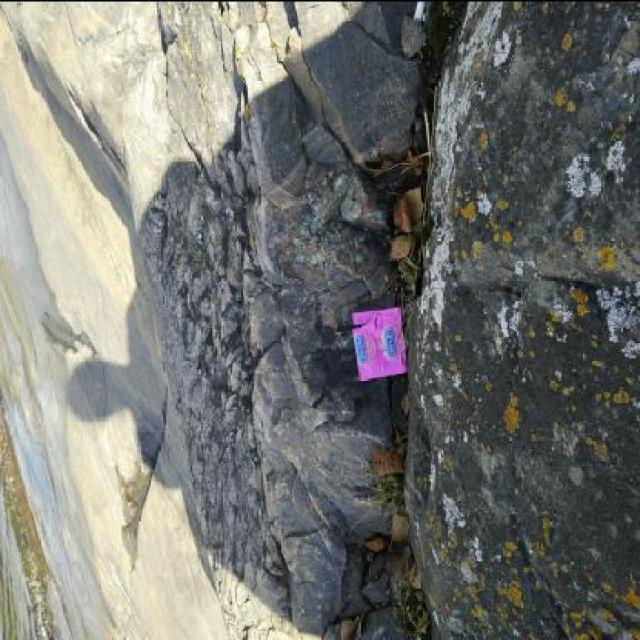plastic: (352, 306, 408, 380)
